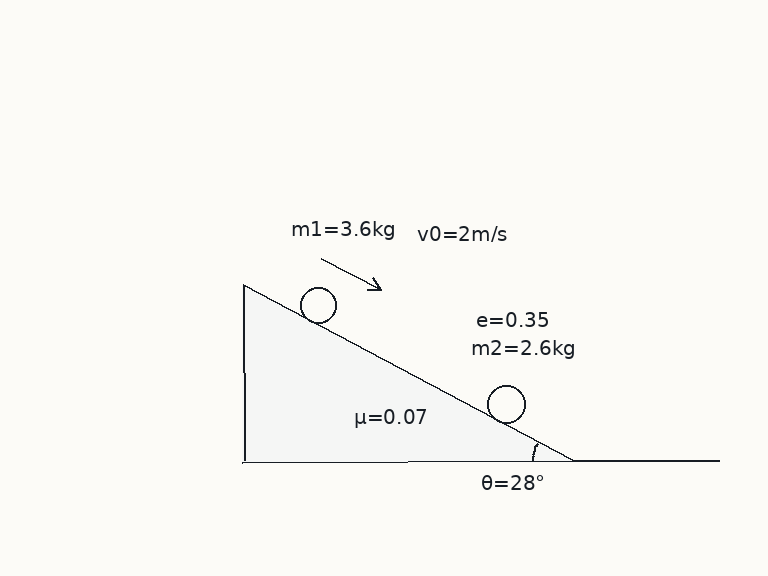ball: (485, 383, 527, 425), (298, 285, 338, 325)
ramp: (241, 283, 575, 463)
